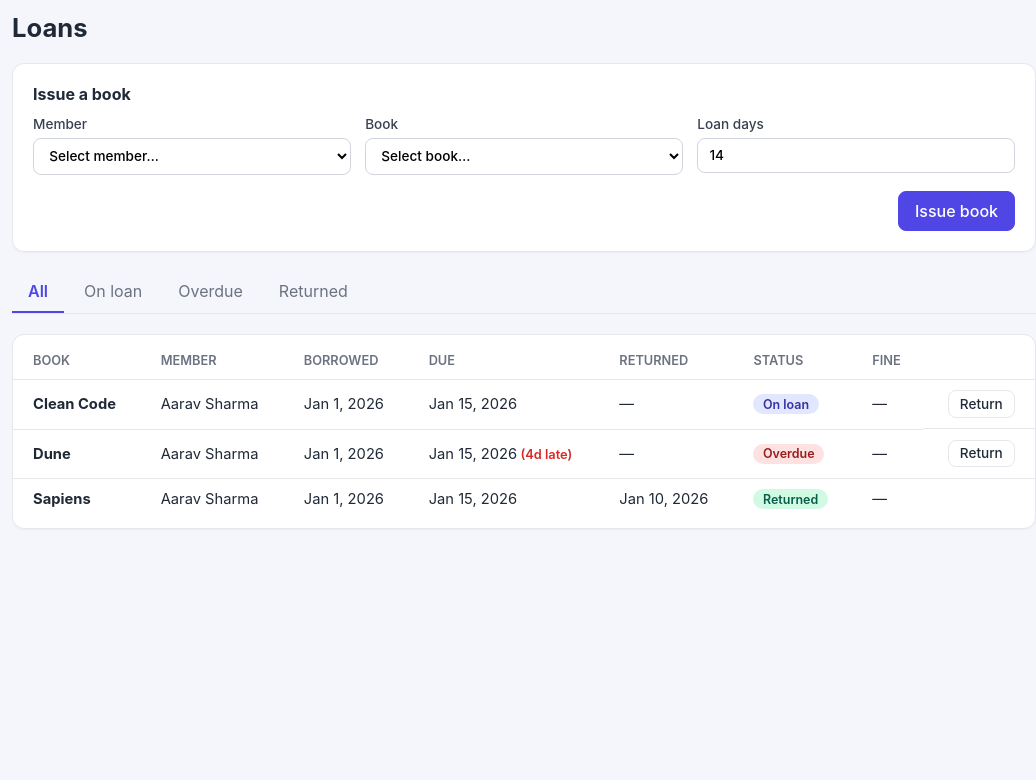
LoansPage › returns a loan and reports the fine
This screenshot has width=1036, height=780.
Click the button "Return" in the row of "Dune" at (981, 453), box [948,440,1015,467]
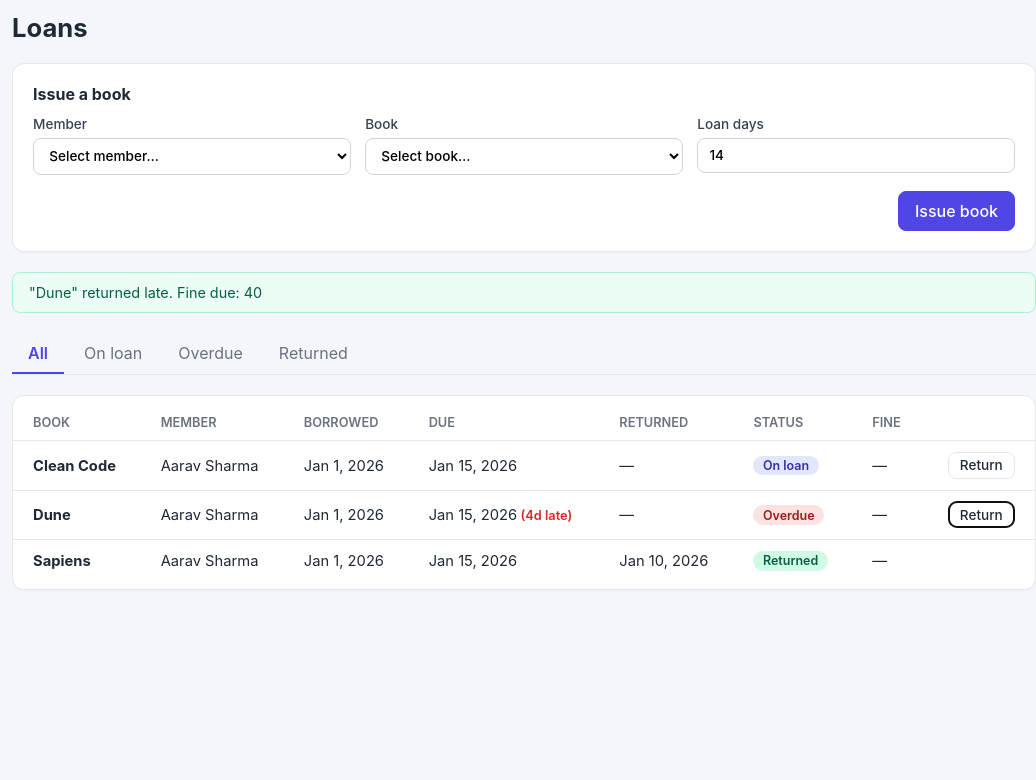
Result: the message shows "Fine due: 40" at [29,284,262,301]
